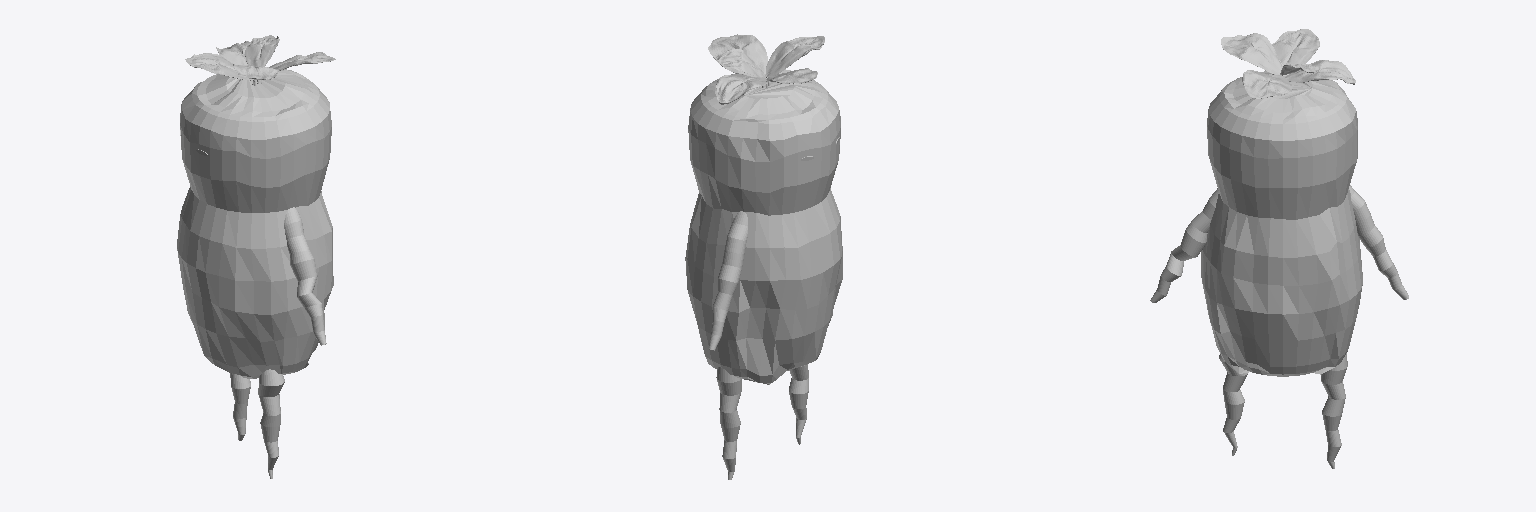
File: mandrake.obj
3 renders of one model, left to right at view 1: azimuth 30°, elevation 25°; view 2: azimuth 150°, elevation 25°; view 3: azimuth 270°, elevation 25°, orthographic.
Parts seen in each view (by area): view 1: Cylinder.004, Sphere.004, Sphere.005, Sphere.003; view 2: Cylinder.004, Sphere.003, Sphere.002, Sphere.001, Sphere.005, Sphere.004; view 3: Cylinder.004, Sphere.002, Sphere.004, Sphere.003, Sphere.001.
Boxes of the visible parts, box(x1,y1,x2,y2) form: Cylinder.004: box(177, 69, 333, 478); Sphere.004: box(185, 53, 253, 80); Sphere.005: box(245, 35, 279, 66); Sphere.003: box(269, 52, 335, 70); Cylinder.004: box(685, 69, 842, 479); Sphere.003: box(708, 34, 767, 76); Sphere.002: box(766, 36, 824, 76); Sphere.001: box(716, 75, 767, 104); Sphere.005: box(718, 48, 764, 77); Sphere.004: box(766, 68, 817, 83); Cylinder.004: box(1150, 71, 1408, 468); Sphere.002: box(1221, 33, 1282, 74); Sphere.004: box(1272, 29, 1319, 75); Sphere.003: box(1242, 70, 1292, 98); Sphere.001: box(1285, 60, 1355, 84).
Size of the model in its own units: 2.1 by 6.12 by 3.48.